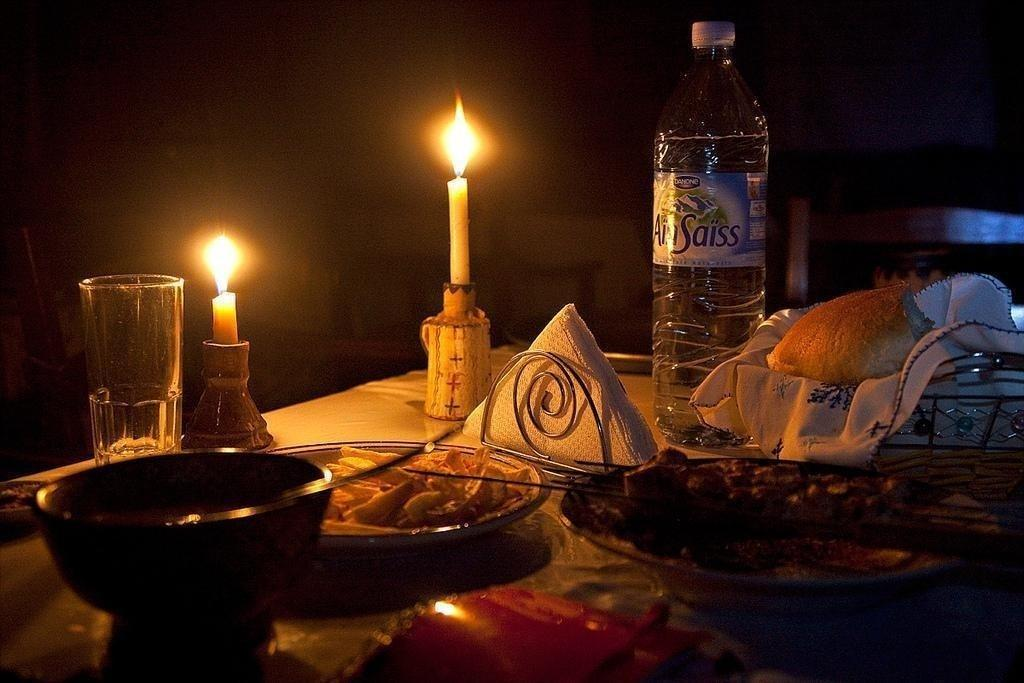bottle-plastic: (648, 14, 772, 443)
glass-normal: (77, 269, 185, 461)
